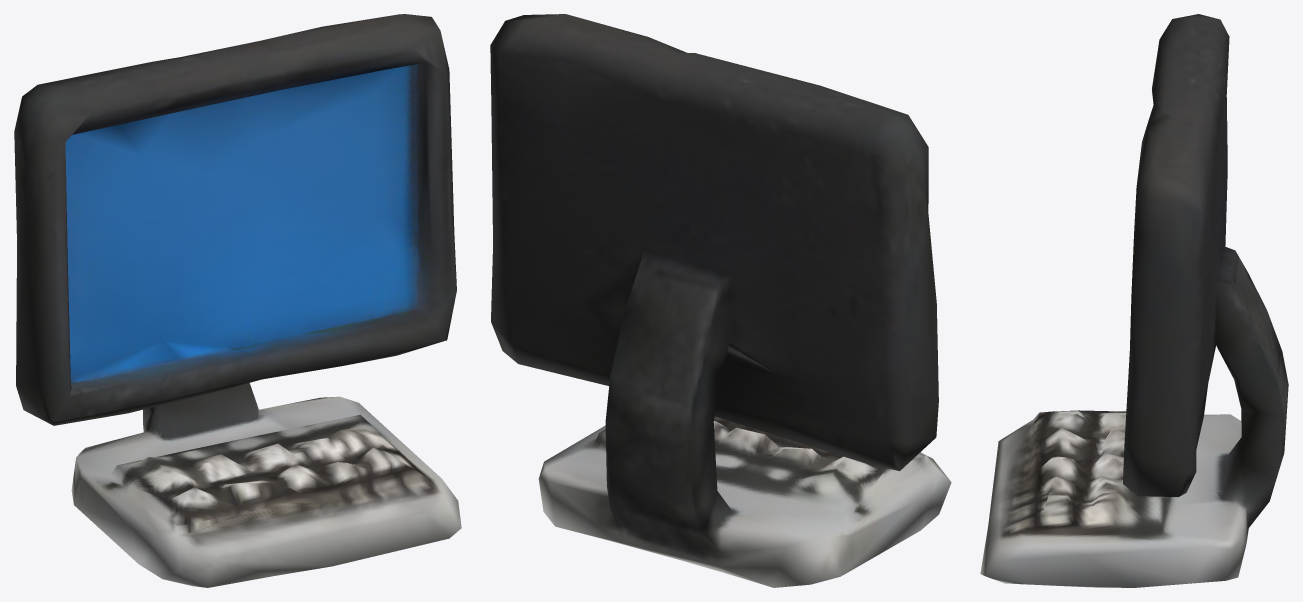
The model's file is ecran.glb.
The picture shows the model from 3 angles, left to right: view 1: azimuth 30°, elevation 25°; view 2: azimuth 150°, elevation 25°; view 3: azimuth 270°, elevation 25°; orthographic projection. The views are drawn at different scales.
Visible parts, largest first — view 1: ecran; view 2: ecran; view 3: ecran.
Part boxes in pixels (x1=…): ecran: x1=14, y1=14, x2=461, y2=587; ecran: x1=490, y1=14, x2=951, y2=587; ecran: x1=980, y1=14, x2=1288, y2=587.
Bounding box in the file's own units: 0.1184 × 0.123 × 0.08.
Materials: 1 (1 with a texture image).
